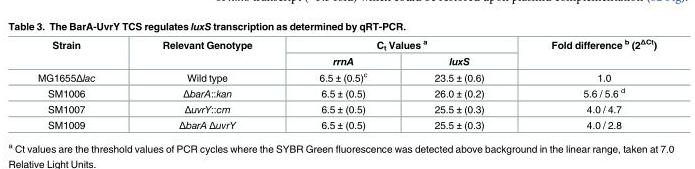table: (36, 36, 656, 130)
table column: (128, 36, 285, 130), (517, 36, 656, 130), (400, 36, 517, 130), (285, 36, 400, 130), (36, 36, 128, 130)
table column header: (36, 36, 656, 68)
table row: (36, 36, 656, 52), (36, 52, 656, 68), (36, 68, 656, 84), (36, 84, 656, 100), (36, 100, 656, 116), (36, 116, 656, 130)
table spanning cell: (128, 36, 285, 68), (517, 36, 656, 68), (285, 36, 517, 52), (36, 36, 128, 68)
